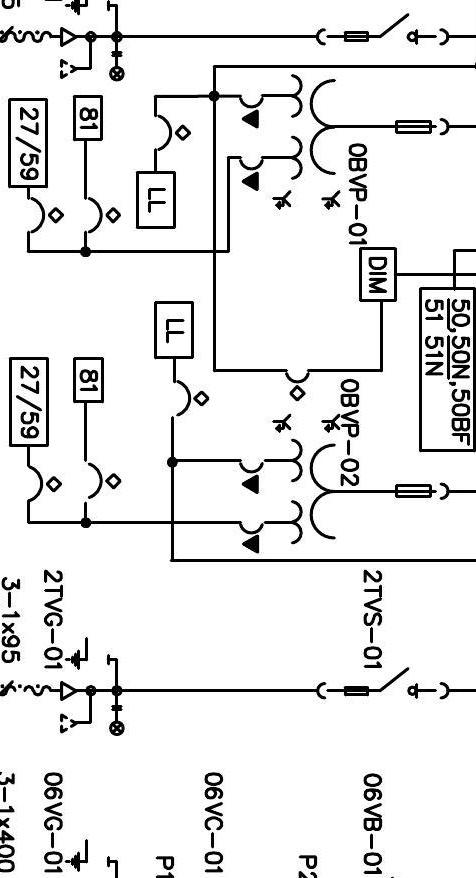22_ds: (315, 12, 450, 47), (315, 666, 450, 701)
22_gs: (63, 838, 110, 873), (64, 636, 110, 671)
22_ll: (108, 50, 125, 82), (108, 705, 125, 737)
22_vt_3p: (235, 401, 452, 547), (238, 73, 451, 211)
DIM: (359, 246, 397, 302)
LL: (153, 300, 195, 360), (135, 170, 177, 230)
terminator_w_future: (59, 26, 92, 80), (60, 680, 92, 734)
